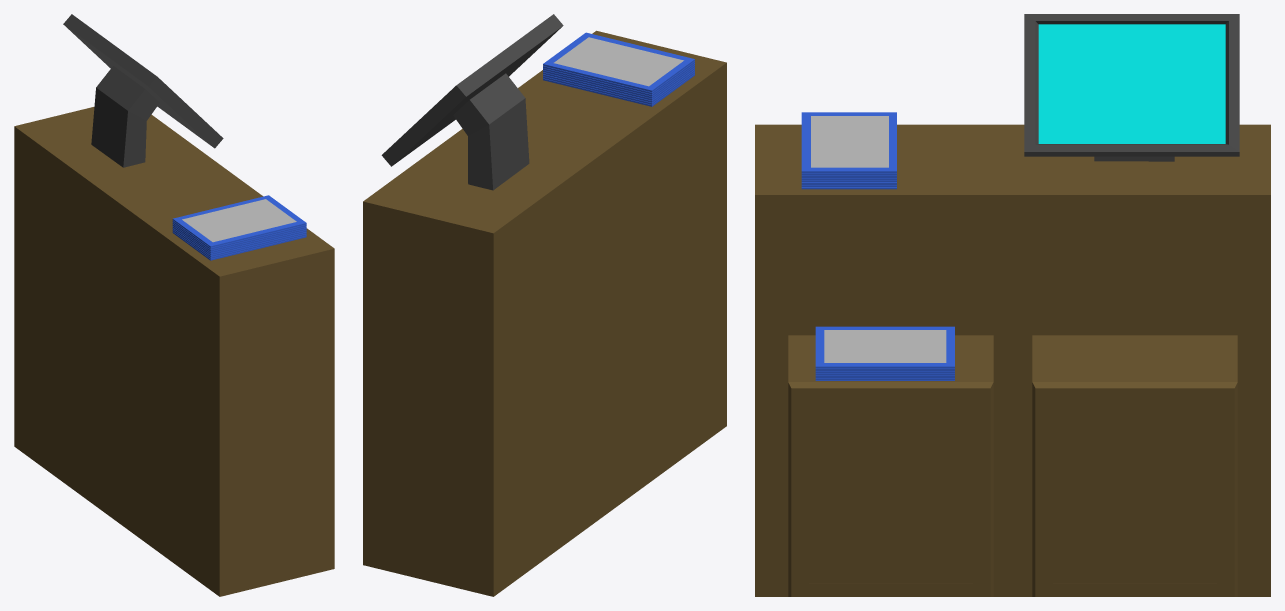
The model's file is server_station.fbx.
The picture shows the model from 3 angles, left to right: view 1: azimuth 30°, elevation 25°; view 2: azimuth 150°, elevation 25°; view 3: azimuth 270°, elevation 25°; orthographic projection. The views are drawn at different scales.
Visible parts, largest first — view 1: Cube, Cube_cell.007, Cube_cell.005, Cube_cell.006, Cube_cell, Cube_cell.003, Cube_cell.001, Cube.007, Cube.001, Cube_cell.004, Cube.001_cell.004, Cube.001_cell.003 (+4 smaller); view 2: Cube, Cube_cell.001, Cube_cell.002, Cube_cell.003, Cube_cell, Cube_cell.006, Cube_cell.007, Cube.001, Cube_cell.005, Cube.007, Cube_cell.004, Cube.001_cell.004 (+2 smaller); view 3: Cube, Cube_cell.002, Cube_cell.006, Cube.001, Cube_cell.001, Cube_cell.007, Cube_cell.003, Cube.001_cell.004, Cube.001_cell.002, Cube_cell, Cube.012, Cube.007 (+4 smaller).
Part boxes in pixels (bbox=[...]): Cube: bbox=[14, 118, 334, 596]; Cube_cell.007: bbox=[189, 249, 334, 584]; Cube_cell.005: bbox=[81, 473, 219, 596]; Cube_cell.006: bbox=[52, 107, 263, 207]; Cube_cell: bbox=[14, 117, 179, 285]; Cube_cell.003: bbox=[133, 305, 189, 516]; Cube_cell.001: bbox=[14, 320, 82, 495]; Cube.007: bbox=[172, 195, 306, 247]; Cube.001: bbox=[63, 14, 221, 167]; Cube_cell.004: bbox=[121, 214, 265, 345]; Cube.001_cell.004: bbox=[88, 47, 159, 131]; Cube.001_cell.003: bbox=[91, 102, 126, 167]; Cube: bbox=[363, 30, 726, 579]; Cube_cell.001: bbox=[363, 340, 570, 596]; Cube_cell.002: bbox=[387, 240, 628, 514]; Cube_cell.003: bbox=[628, 193, 692, 442]; Cube_cell: bbox=[451, 128, 614, 298]; Cube_cell.006: bbox=[363, 70, 575, 343]; Cube_cell.007: bbox=[692, 126, 726, 407]; Cube.001: bbox=[381, 14, 562, 190]; Cube_cell.005: bbox=[570, 386, 726, 539]; Cube.007: bbox=[543, 32, 694, 92]; Cube_cell.004: bbox=[617, 89, 708, 239]; Cube.001_cell.004: bbox=[392, 73, 526, 165]; Cube: bbox=[755, 124, 1270, 596]; Cube_cell.002: bbox=[1053, 234, 1237, 380]; Cube_cell.006: bbox=[825, 147, 1270, 363]; Cube.001: bbox=[1024, 14, 1239, 161]; Cube_cell.001: bbox=[1105, 349, 1270, 596]; Cube_cell.007: bbox=[755, 195, 924, 552]; Cube_cell.003: bbox=[861, 247, 1201, 466]; Cube.001_cell.004: bbox=[1060, 58, 1239, 156]; Cube.001_cell.002: bbox=[1055, 14, 1238, 58]; Cube_cell: bbox=[1003, 124, 1270, 252]; Cube.012: bbox=[815, 326, 954, 368]; Cube.007: bbox=[801, 112, 896, 173].
Size of the model in its own units: 161 by 552 by 478.
